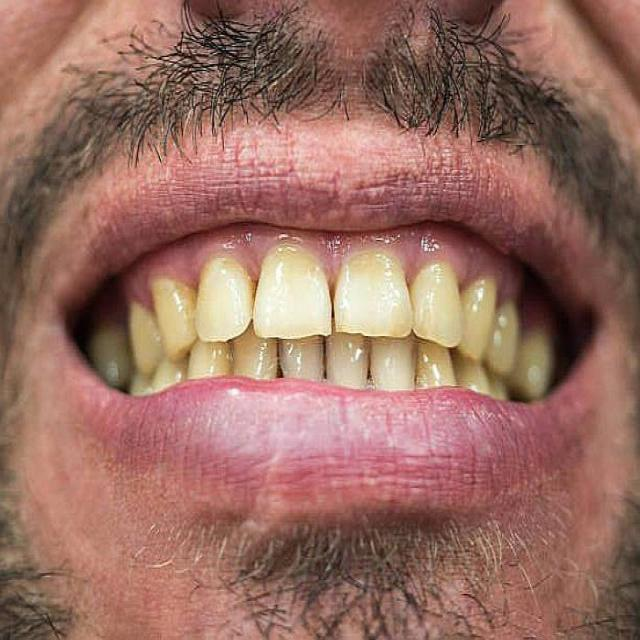CALCULUS: (217, 259, 248, 274), (351, 260, 387, 269)
